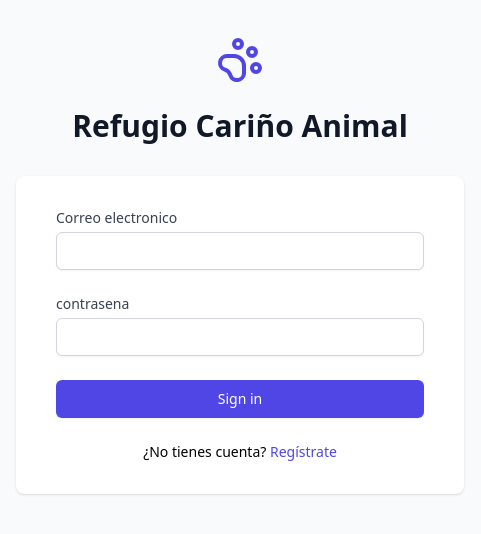
LoginForm › Funcionalidad de login › debe mostrar error cuando el login falla
The width and height of the screenshot is (481, 534).
Type "test@example.com" into the field labelled "Correo electronico". click: (240, 251)
box: [56,232,424,270]
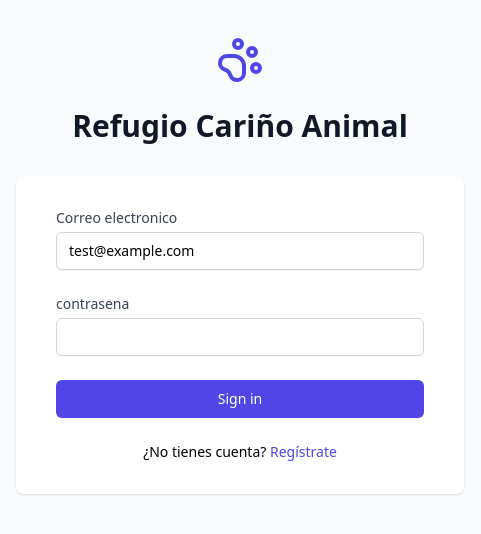
Type "123456" into the password field labelled "contrasena". click: (240, 337)
box: [56,318,424,356]
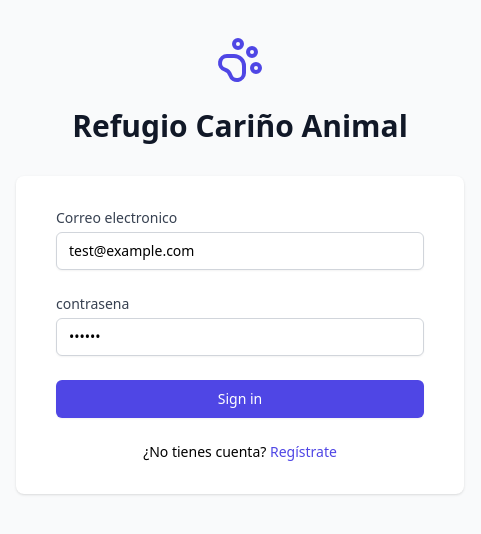
Click the button "Sign in". click: (240, 399)
box: [56,380,424,418]
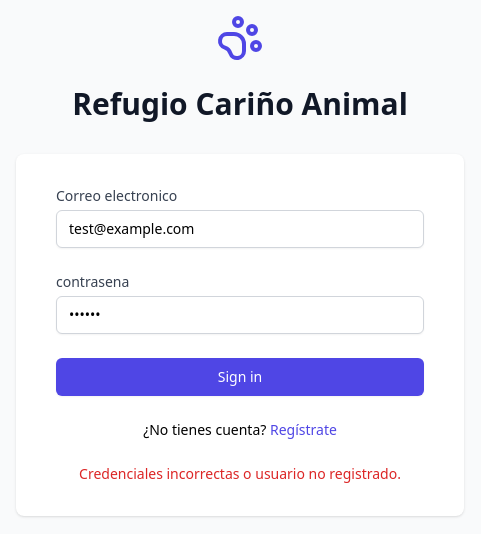
Expected: the text "Credenciales incorrectas o usuario no registrado." is shown, [56,464,424,484]
